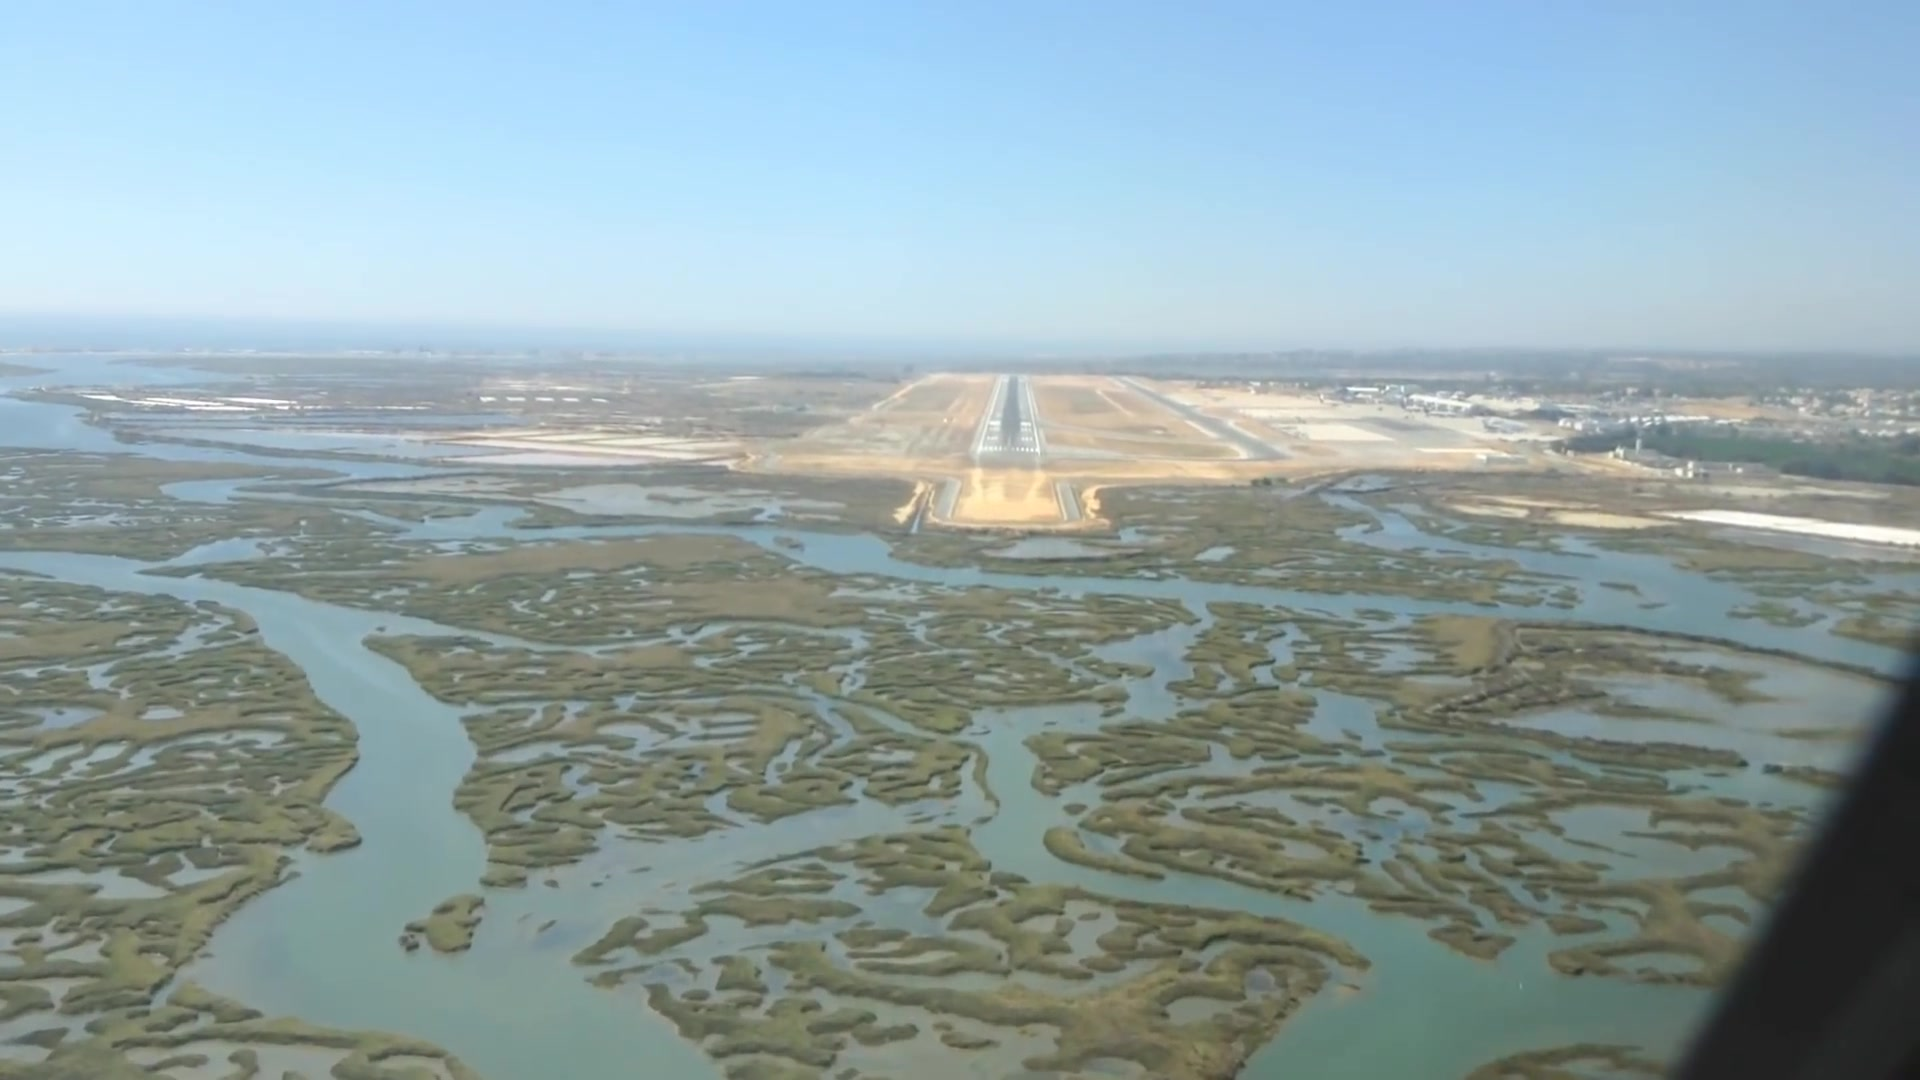entrance: (977, 443, 1040, 454)
runway: (972, 375, 1043, 467)
